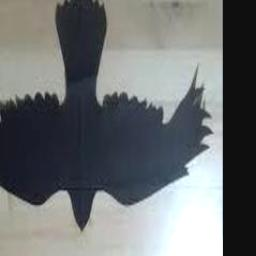Crow: (0, 0, 212, 233)
